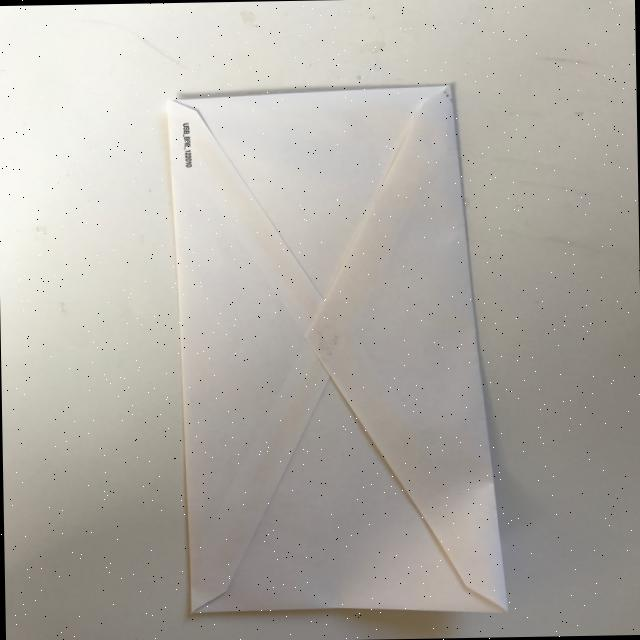paper: (166, 82, 508, 618)
